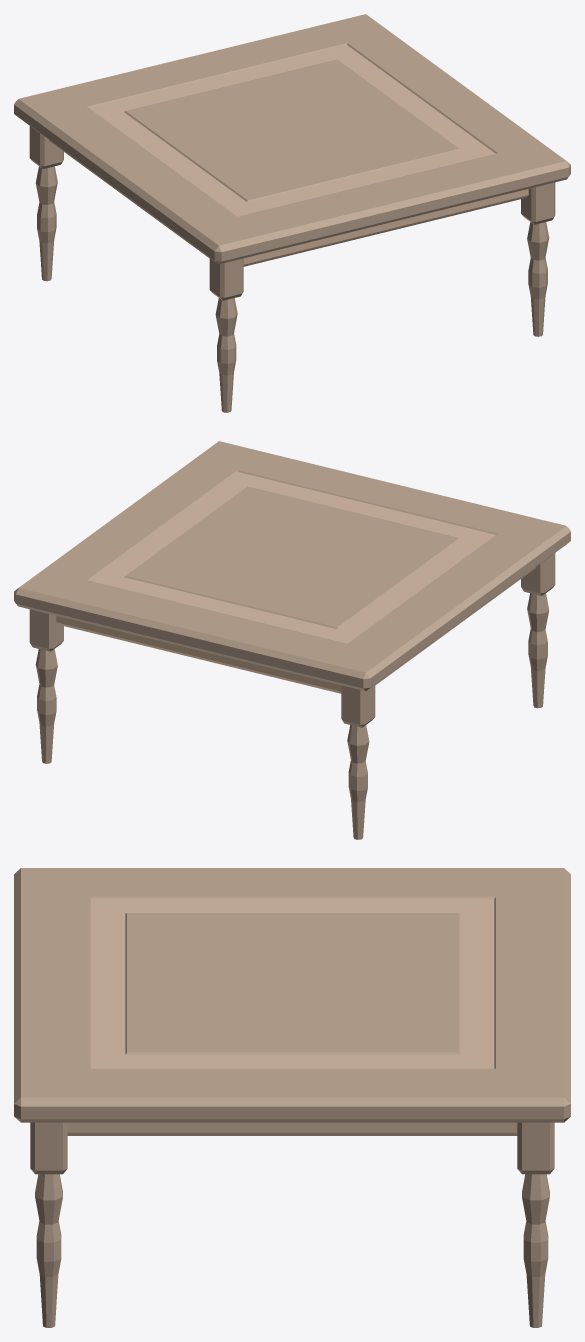
The model's file is Prop_Dining_Room_Table_Square.fbx.
The picture shows the model from 3 angles, top to bottom: view 1: azimuth 30°, elevation 25°; view 2: azimuth 150°, elevation 25°; view 3: azimuth 270°, elevation 25°; orthographic projection. The views are drawn at different scales.
Visible parts, largest first — view 1: object1.017; view 2: object1.017; view 3: object1.017.
Part boxes in pixels (x1,y1,x2,y2): object1.017: (14,14,570,412); object1.017: (14,441,570,839); object1.017: (14,868,570,1327).
Bounding box in the file's own units: 200 × 95 × 200.
